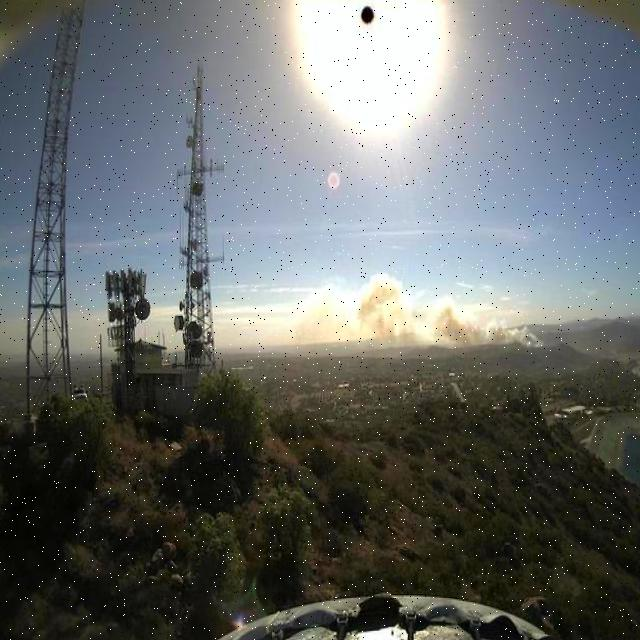smoke: (299, 266, 549, 350)
